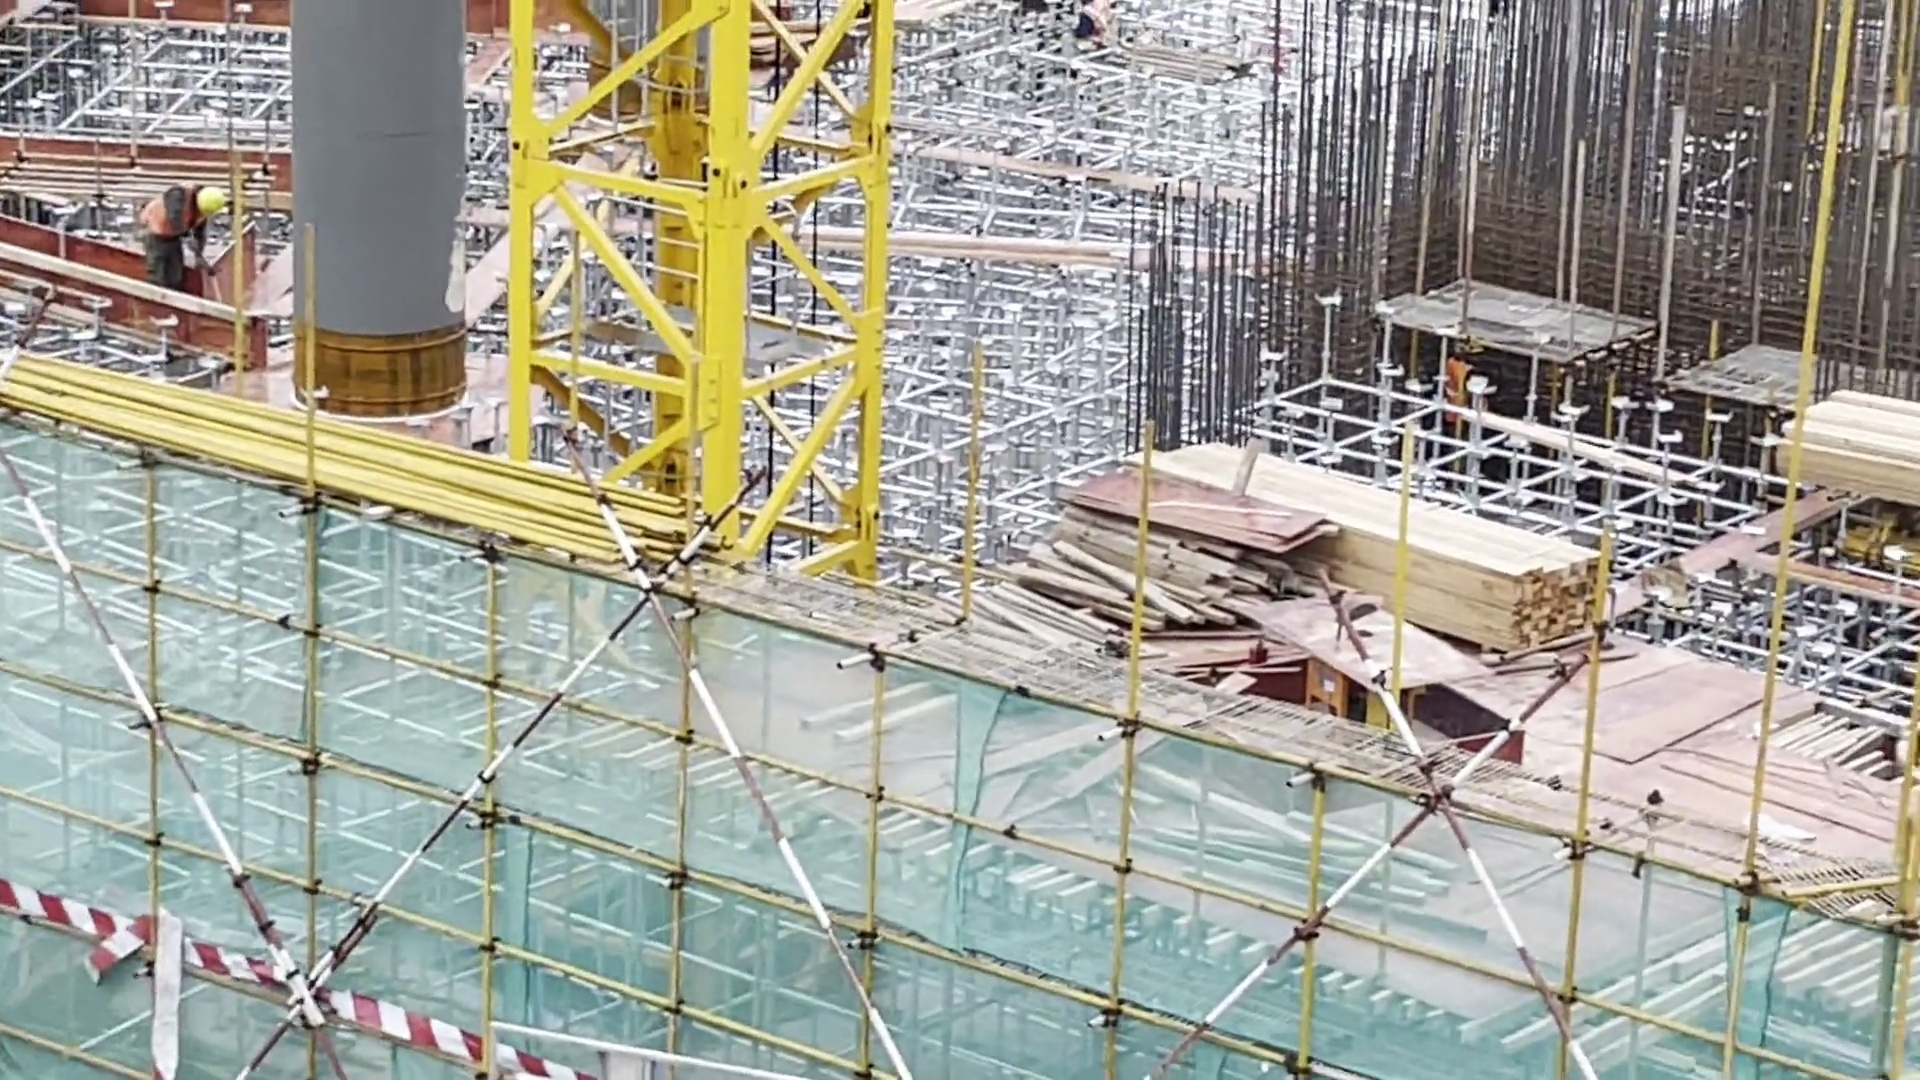cutter: (1265, 589, 1483, 727)
helmet: (184, 165, 233, 234)
person: (136, 166, 220, 311)
vest: (140, 196, 196, 237)
wood: (1132, 442, 1599, 656), (959, 521, 1296, 662)
